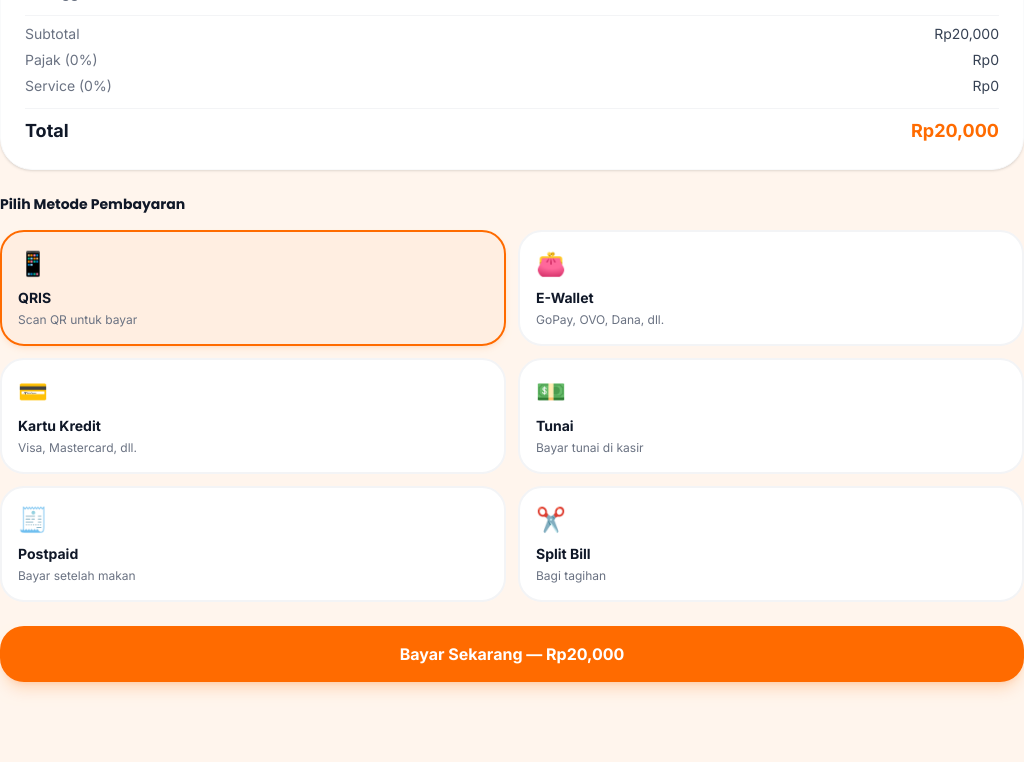
Scenario: PaymentPage — 409 PRICE_CHANGED (DR-11) › confirming resubmits once with accepted prices and the same idempotency key
(page scrolled)
Step 1. Click the button "Bayar Sekarang — Rp20,000" → (512,654), box [0,626,1023,682]
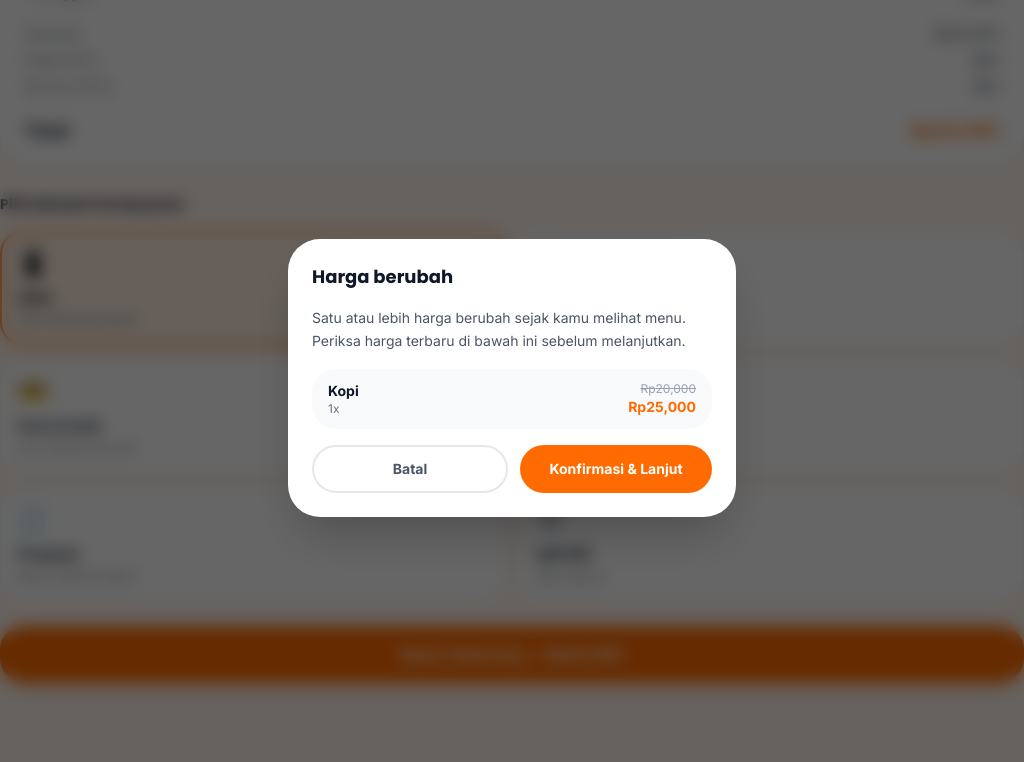
Expected: the heading "Harga berubah" is shown, [312,264,453,289]
Step 2. Click the button "Konfirmasi & Lanjut" → (616,469), box [520,445,712,493]
(page scrolled)
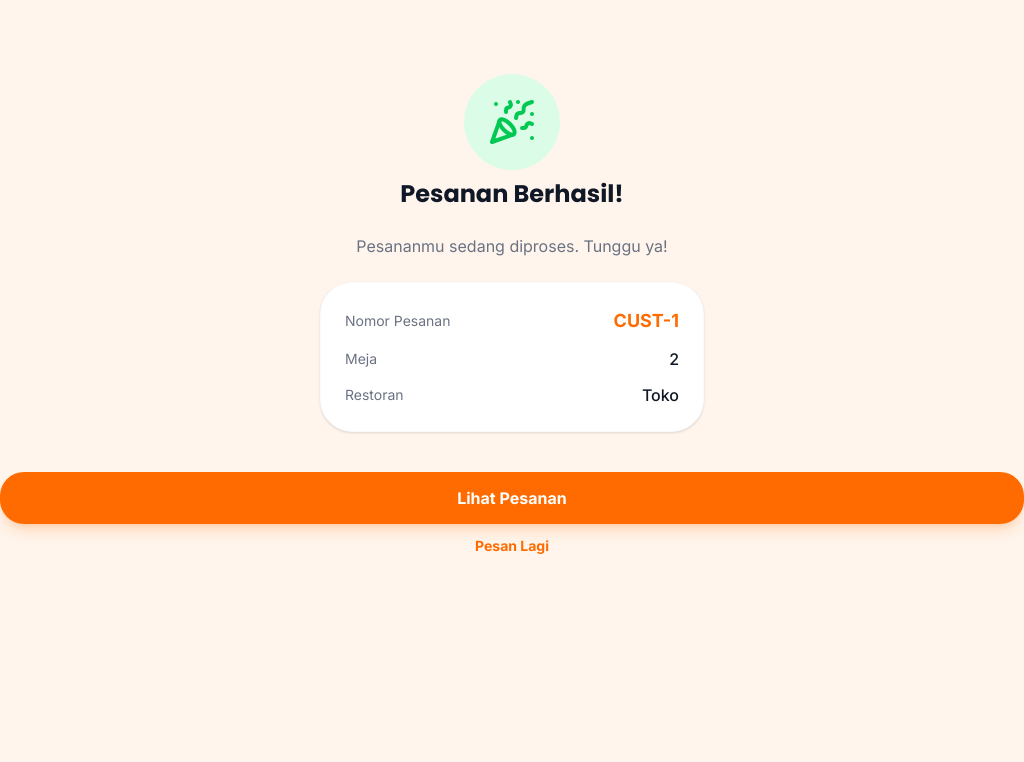
Expected: the heading "Pesanan Berhasil!" is shown, [400,177,624,210]
